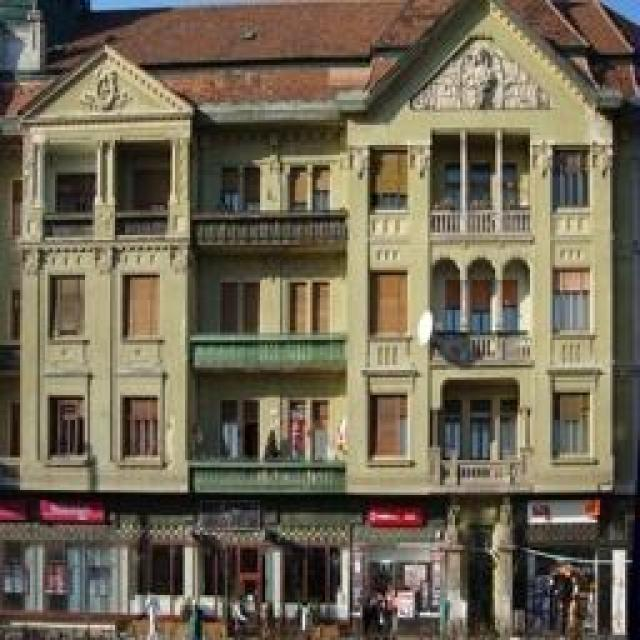building: (10, 2, 632, 632)
